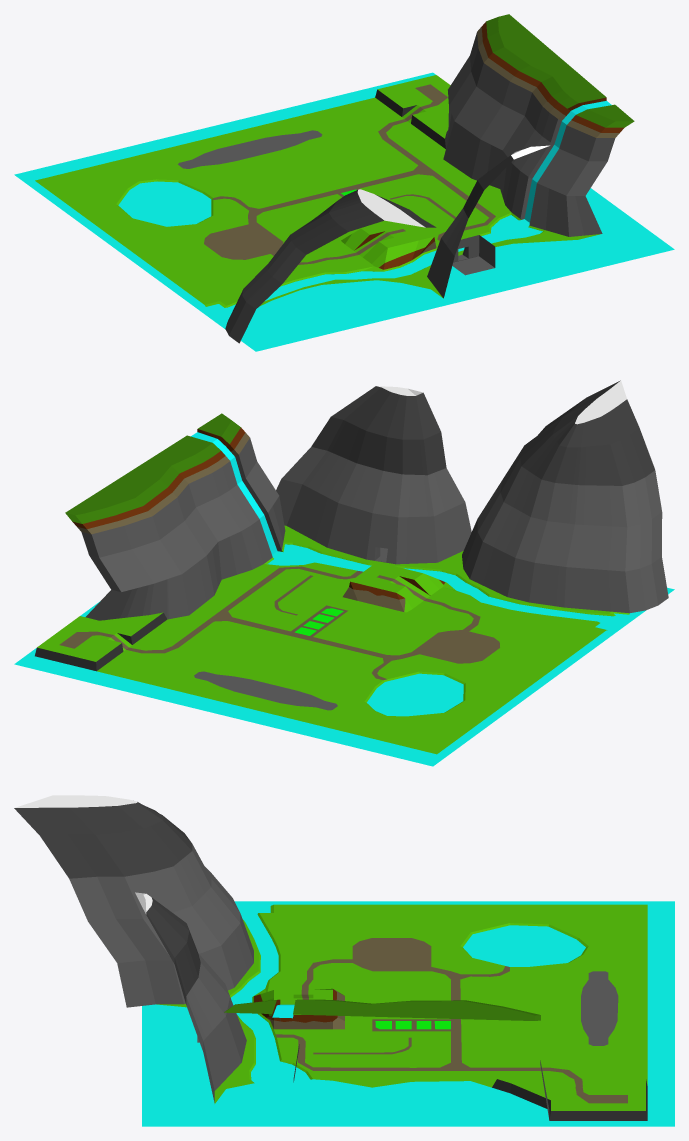
Rendered from ground.glb.
3 renders of one model, top to bottom at view 1: azimuth 30°, elevation 25°; view 2: azimuth 150°, elevation 25°; view 3: azimuth 270°, elevation 25°, orthographic. The views are drawn at different scales.
Visible parts, largest first — view 1: ground, water; view 2: ground, water; view 3: ground, water.
Part boxes in pixels (left/top/right/bottom): ground: left=35, top=14, right=634, bottom=343; water: left=14, top=72, right=674, bottom=351; ground: left=35, top=380, right=668, bottom=754; water: left=14, top=544, right=674, bottom=766; ground: left=14, top=795, right=647, bottom=1120; water: left=142, top=901, right=674, bottom=1126.
Bounding box in the file's own units: 326 × 106 × 388.
2 materials, 1 textured.
